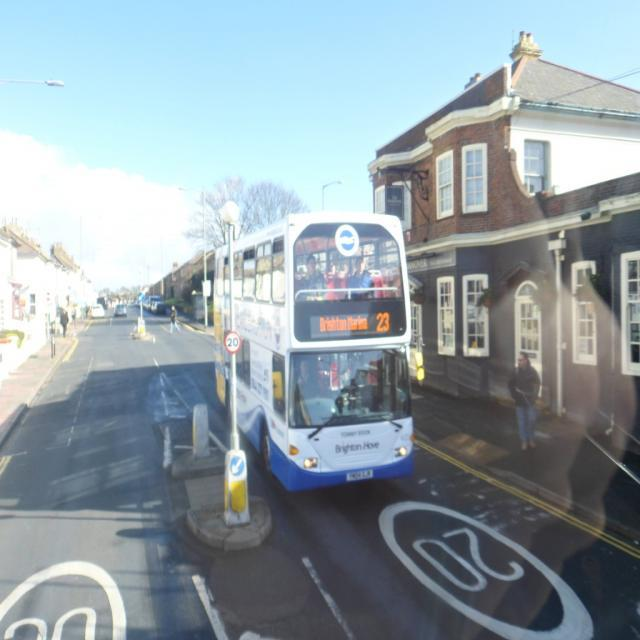motorcycle: (214, 208, 424, 492)
